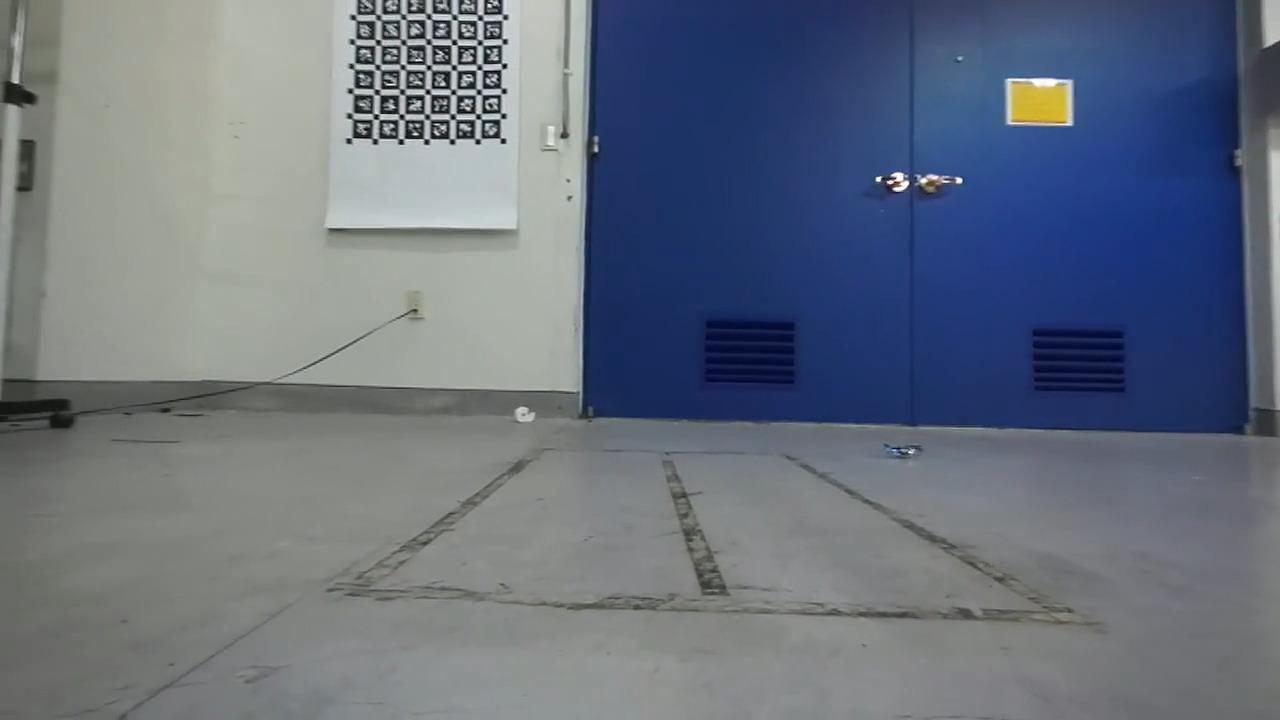crazyflie: (880, 437, 932, 463)
